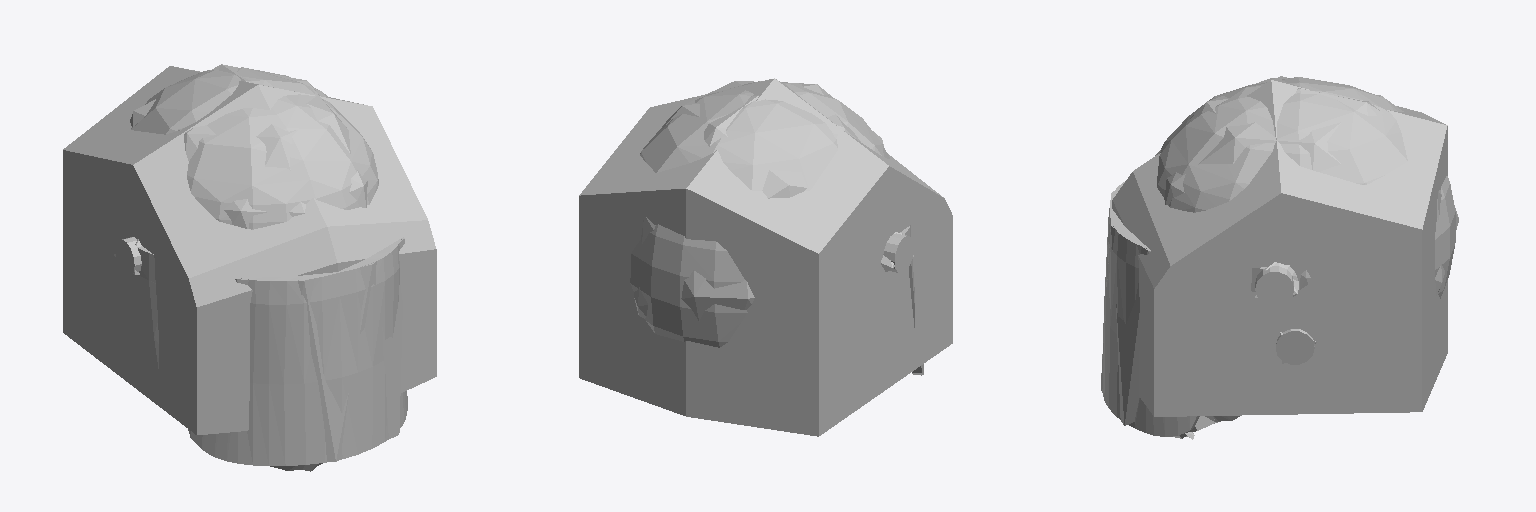
The model's file is ene_cartel_geared_heavy_vest_helmet.obj.
3 views of the same model, side by side, from view 1: azimuth 30°, elevation 25°; view 2: azimuth 150°, elevation 25°; view 3: azimuth 270°, elevation 25° (orthographic).
Visible parts, largest first — view 1: dm_helmet, g_helmet_lod1, g_helmet_lod2; view 2: dm_helmet, g_helmet_lod1, g_helmet_lod2; view 3: dm_helmet, g_helmet_lod1, g_helmet_lod2.
Part boxes in pixels (left/top/right/bottom): dm_helmet: left=63, top=66, right=436, bottom=434; g_helmet_lod1: left=115, top=67, right=407, bottom=470; g_helmet_lod2: left=114, top=64, right=404, bottom=471; dm_helmet: left=579, top=78, right=952, bottom=436; g_helmet_lod1: left=630, top=81, right=923, bottom=374; g_helmet_lod2: left=634, top=81, right=921, bottom=375; dm_helmet: left=1112, top=76, right=1447, bottom=416; g_helmet_lod1: left=1102, top=77, right=1455, bottom=439; g_helmet_lod2: left=1101, top=78, right=1458, bottom=436.
Bounding box in the file's own units: 24.51 × 30.68 × 28.49.